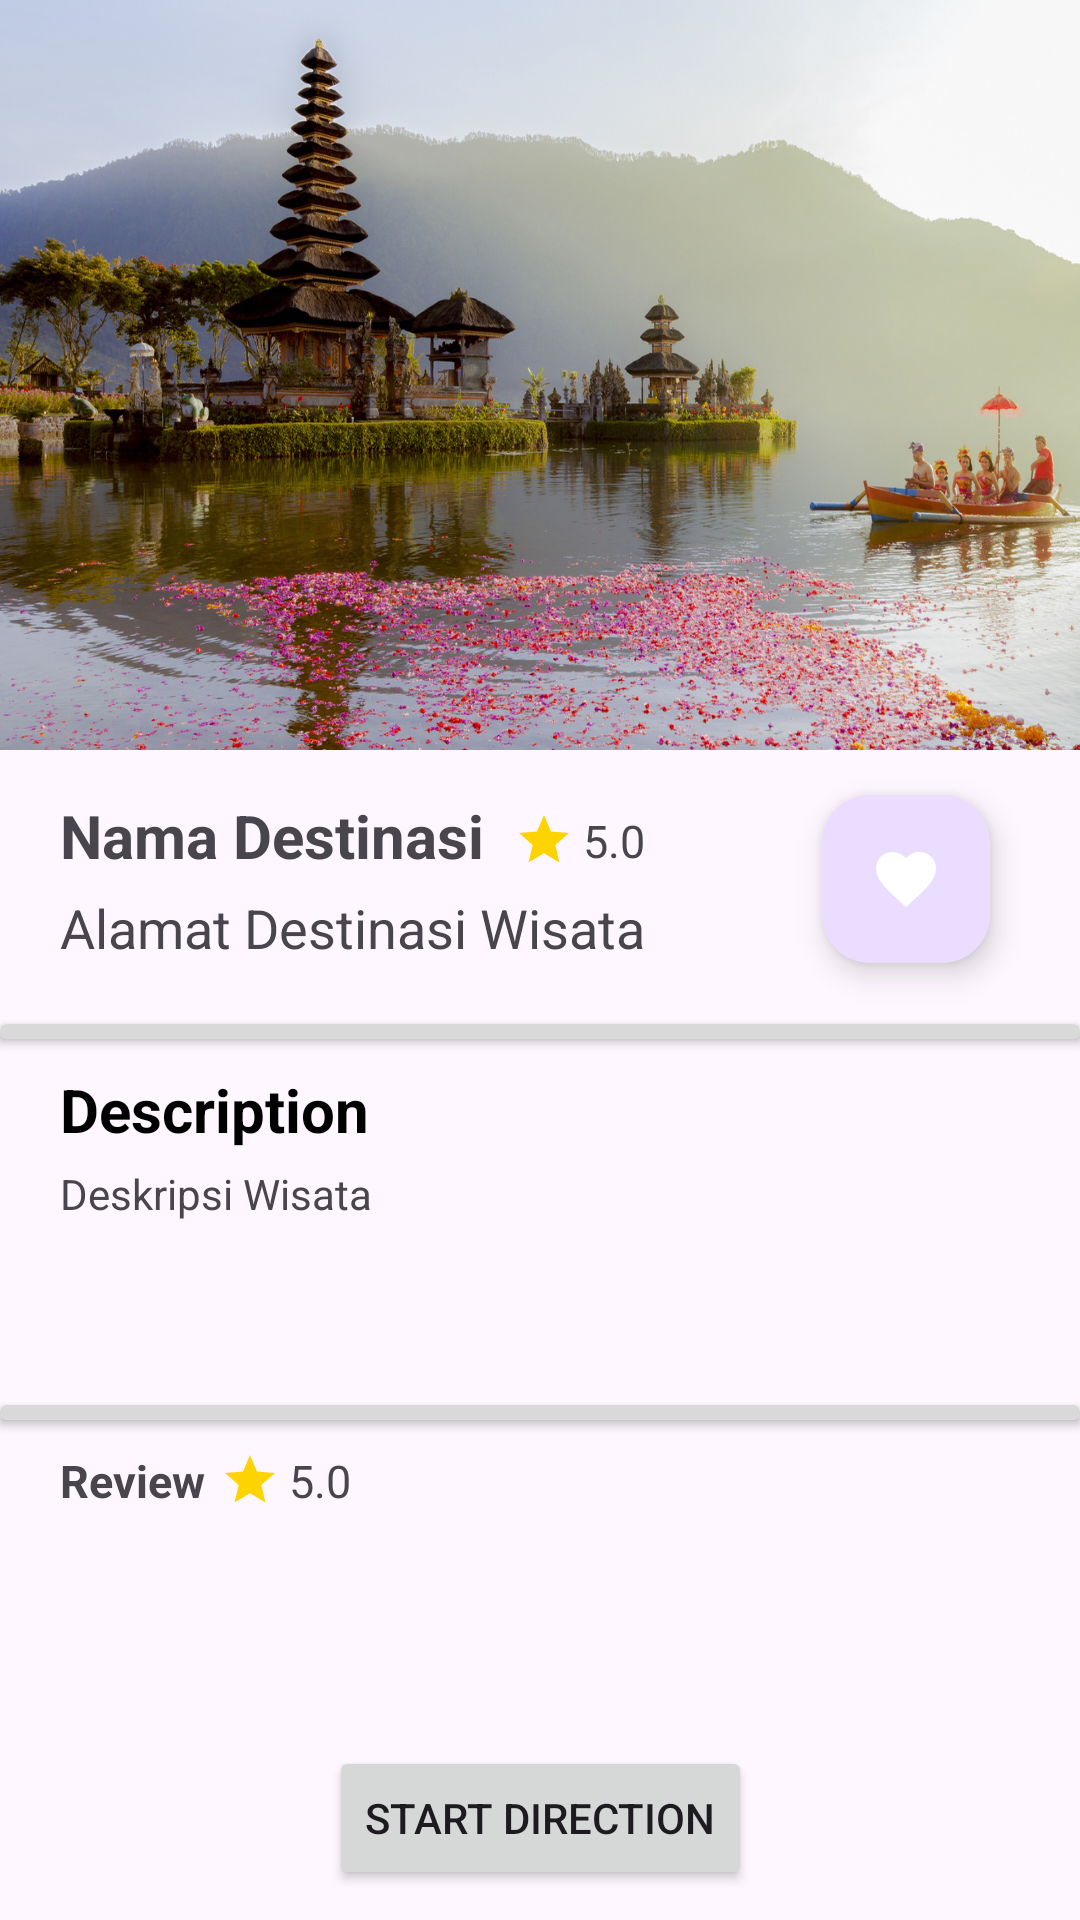

Icon bounding boxes for this 1080w x 1920h phone screenshot, format (x1, y1, x2, y2):
favorite: (822, 795, 990, 963)
star: (519, 815, 569, 863), (225, 1455, 275, 1503)
